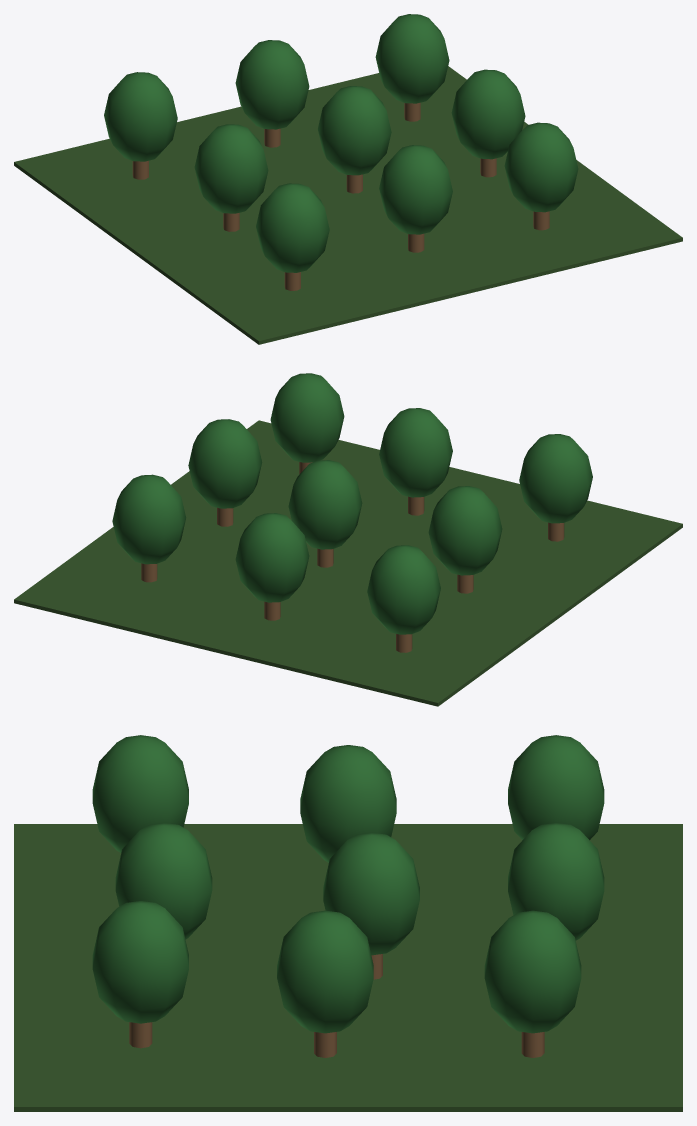
The model's file is forest.glb.
3 views of the same model, one above another, from view 1: azimuth 30°, elevation 25°; view 2: azimuth 150°, elevation 25°; view 3: azimuth 270°, elevation 25° (orthographic). The views are drawn at different scales.
Parts seen in each view (by area): view 1: Floor, Crown_3, Crown_2, Crown_0, Crown_7, Crown_1, Crown_6, Crown_4, Crown_8, Crown_5; view 2: Floor, Crown_1, Crown_7, Crown_8, Crown_5, Crown_6, Crown_0, Crown_3, Crown_2, Crown_4; view 3: Floor, Crown_2, Crown_8, Crown_5, Crown_4, Crown_3, Crown_1, Crown_6, Crown_0, Crown_7, Trunk_8, Trunk_2 (+1 smaller).
Part boxes in pixels (box(x1,y1,x2,y2)): Floor: box(14, 66, 682, 344); Crown_3: box(194, 124, 268, 213); Crown_2: box(375, 14, 449, 103); Crown_0: box(104, 72, 177, 161); Crown_7: box(379, 145, 452, 234); Crown_1: box(235, 40, 309, 129); Crown_6: box(256, 183, 329, 272); Crown_4: box(318, 86, 391, 175); Crown_8: box(504, 122, 578, 212); Crown_5: box(451, 69, 525, 159); Floor: box(14, 420, 682, 706); Crown_1: box(235, 513, 309, 602); Crown_7: box(379, 408, 452, 497); Crown_8: box(270, 373, 344, 462); Crown_5: box(188, 419, 262, 508); Crown_6: box(519, 434, 592, 523); Crown_0: box(367, 545, 440, 634); Crown_3: box(428, 486, 502, 575); Crown_2: box(112, 474, 186, 564); Crown_4: box(288, 460, 362, 549); Floor: box(14, 824, 682, 1111); Crown_2: box(484, 910, 581, 1033); Crown_8: box(92, 901, 188, 1023); Crown_5: box(277, 910, 373, 1033); Crown_4: box(323, 832, 419, 955); Crown_3: box(300, 745, 396, 862); Crown_1: box(508, 823, 604, 940); Crown_6: box(92, 735, 188, 852); Crown_0: box(508, 735, 604, 840); Crown_7: box(115, 823, 212, 939); Trunk_8: box(129, 1022, 152, 1048); Trunk_2: box(521, 1032, 544, 1057).
Bounding box in the file's own units: 2.9 × 0.6925 × 2.9.
